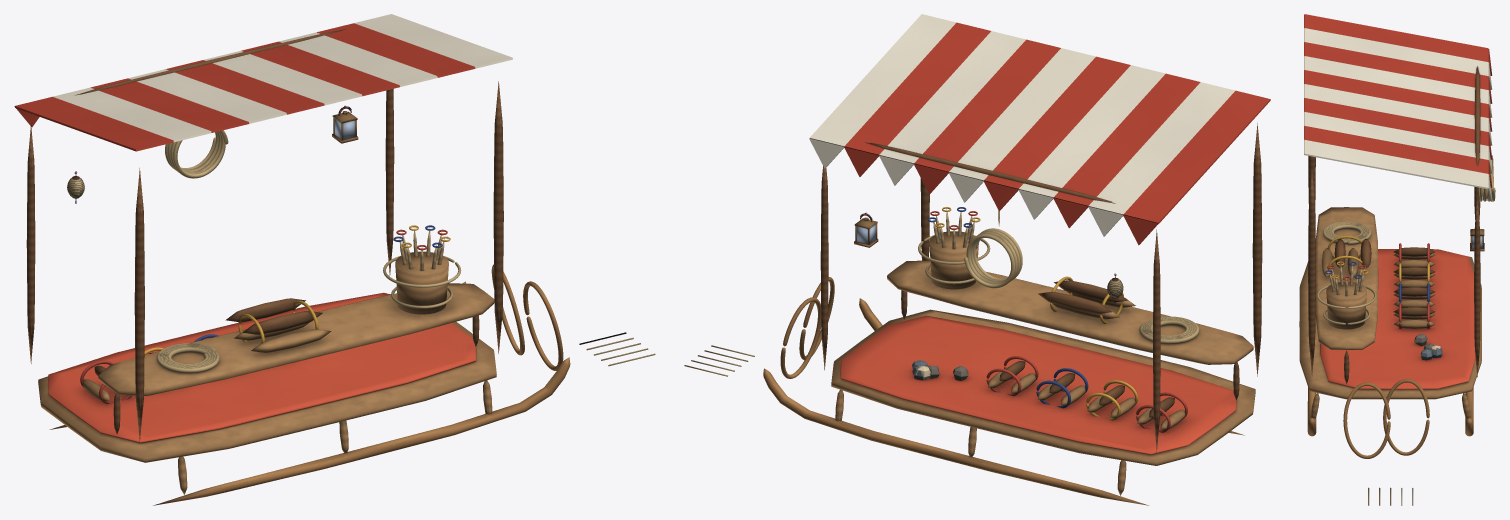
The model's file is yama_stall.glb.
The picture shows the model from 3 angles, left to right: view 1: azimuth 30°, elevation 25°; view 2: azimuth 150°, elevation 25°; view 3: azimuth 270°, elevation 25°; orthographic projection. The views are drawn at different scales.
Parts seen in each view (by area): view 1: yama_stall; view 2: yama_stall; view 3: yama_stall.
Boxes of the visible parts, x1,y1,x2,y2 form: yama_stall: (14,14,655,505); yama_stall: (684,14,1270,505); yama_stall: (1299,14,1495,505).
Bounding box in the file's own units: 3.18 × 1.99 × 1.25.
1 material, 1 textured.
